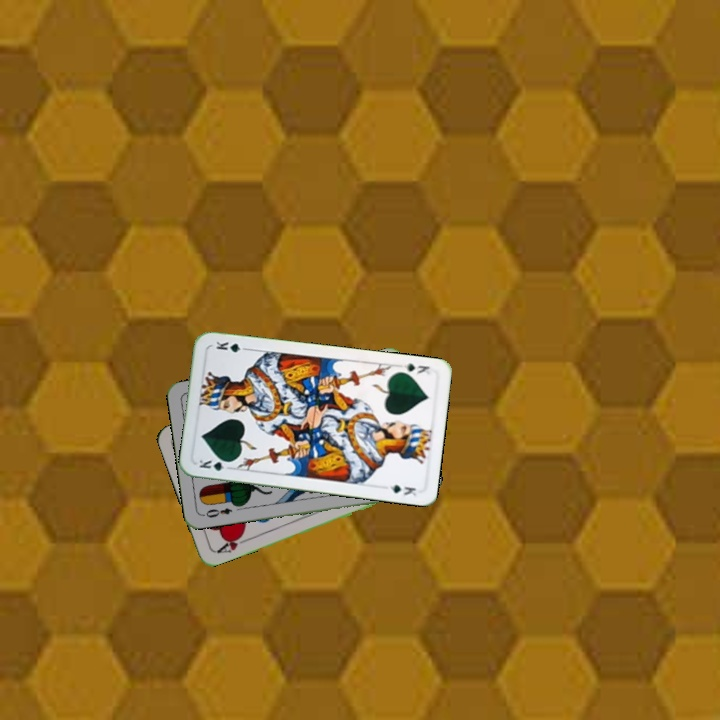EO: (199, 504, 235, 520)
GK: (193, 456, 235, 474), (400, 359, 434, 377)
HA: (213, 530, 251, 556)
